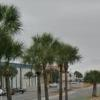Tree: (23, 28, 73, 81)
